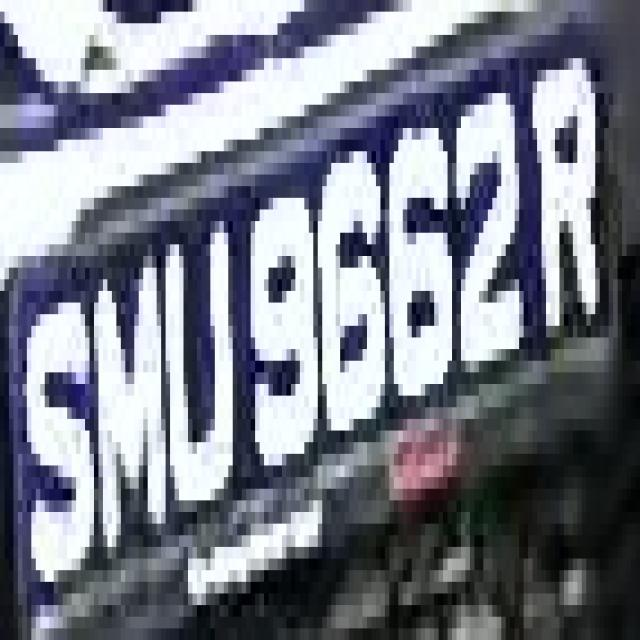2: (448, 46, 524, 419)
6: (309, 128, 389, 454), (385, 93, 461, 407)
9: (242, 163, 318, 477)
M: (94, 244, 175, 570)
R: (528, 35, 600, 349)
S: (22, 268, 98, 605)
U: (175, 209, 232, 512)
